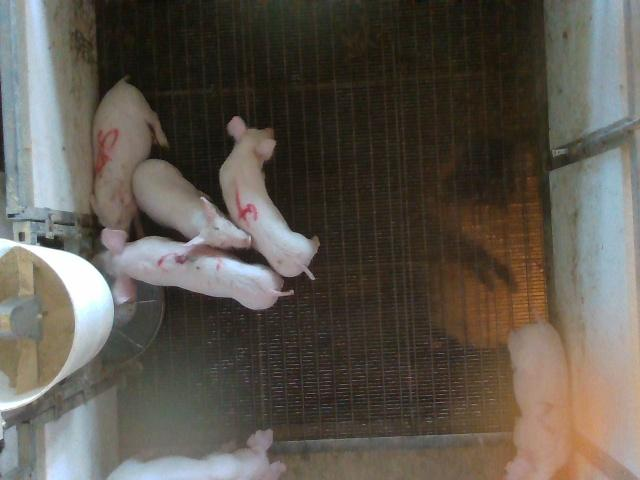pig-2: (506, 321, 572, 478)
pig-3: (95, 229, 291, 309)
pig-4: (219, 116, 320, 279)
pig-5: (91, 78, 168, 231)
